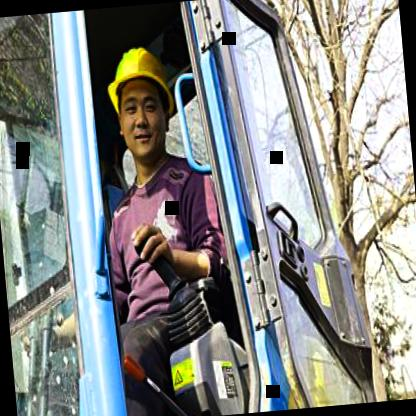helmet: (100, 29, 181, 171)
